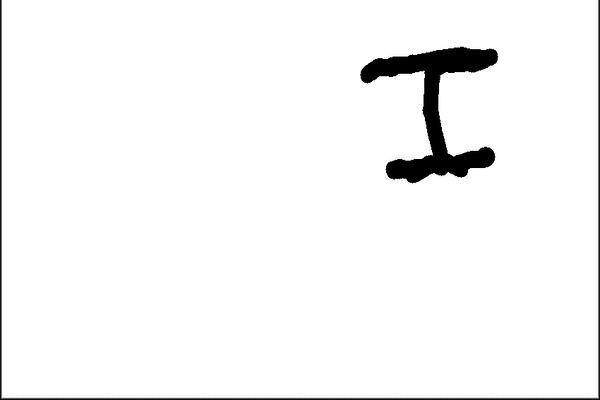i: (355, 31, 512, 194)
